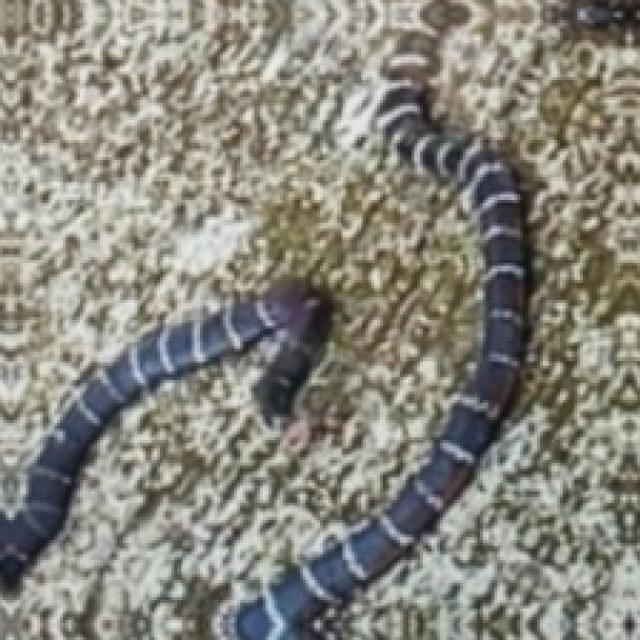barredcoral snake: (231, 80, 529, 637), (234, 83, 526, 637), (0, 280, 331, 589), (377, 31, 438, 100)
